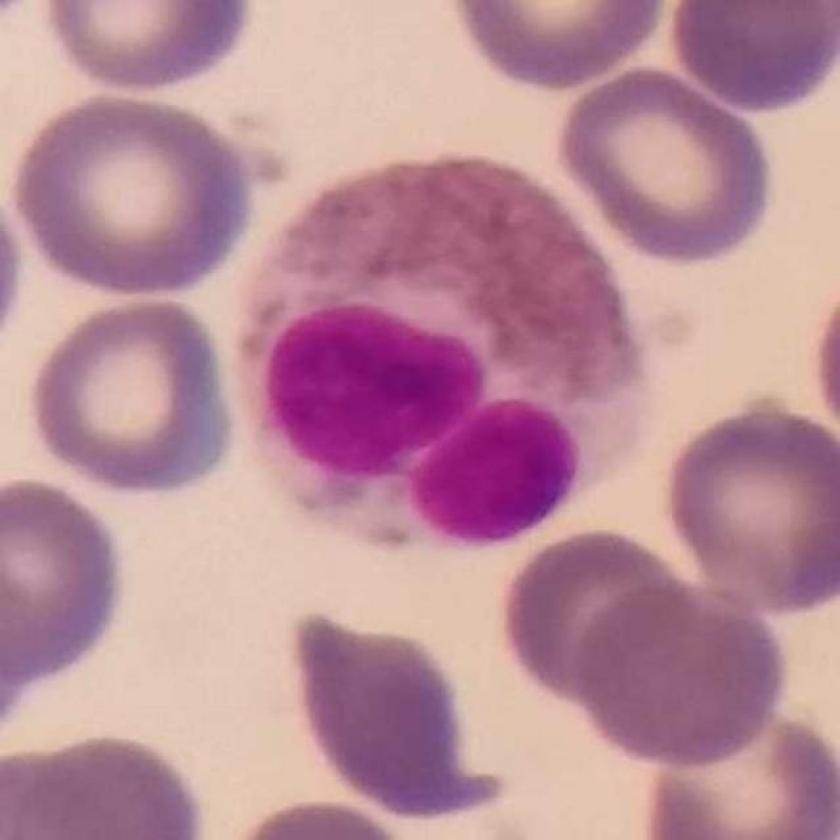eosinophil: (235, 154, 657, 558)
